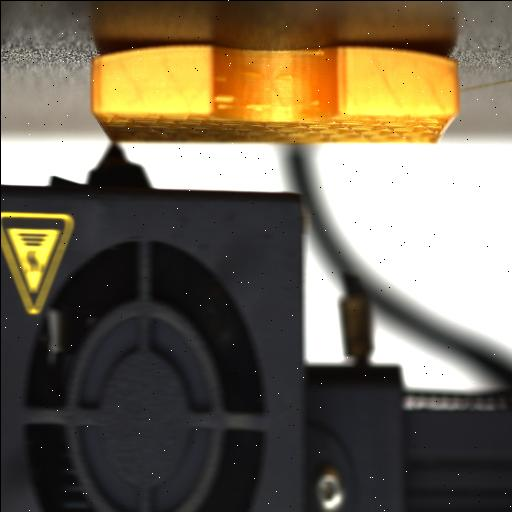warp: (82, 36, 156, 76), (394, 40, 464, 82)
